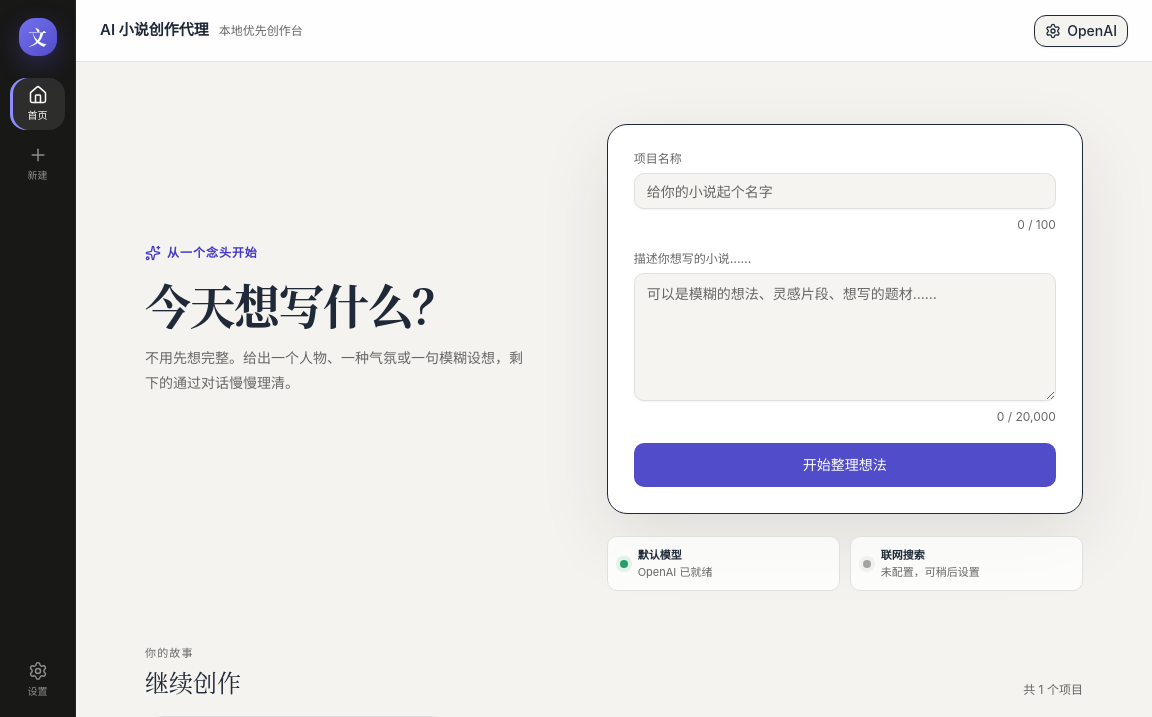
Scenario: App：旅程探针失败可见性（B8 复查随行） › 探针读取失败时给出可见提示，且不泄露原始错误细节
Click the button with aria-label "新建项目" at (38, 164), box 10,138 -> 65,190
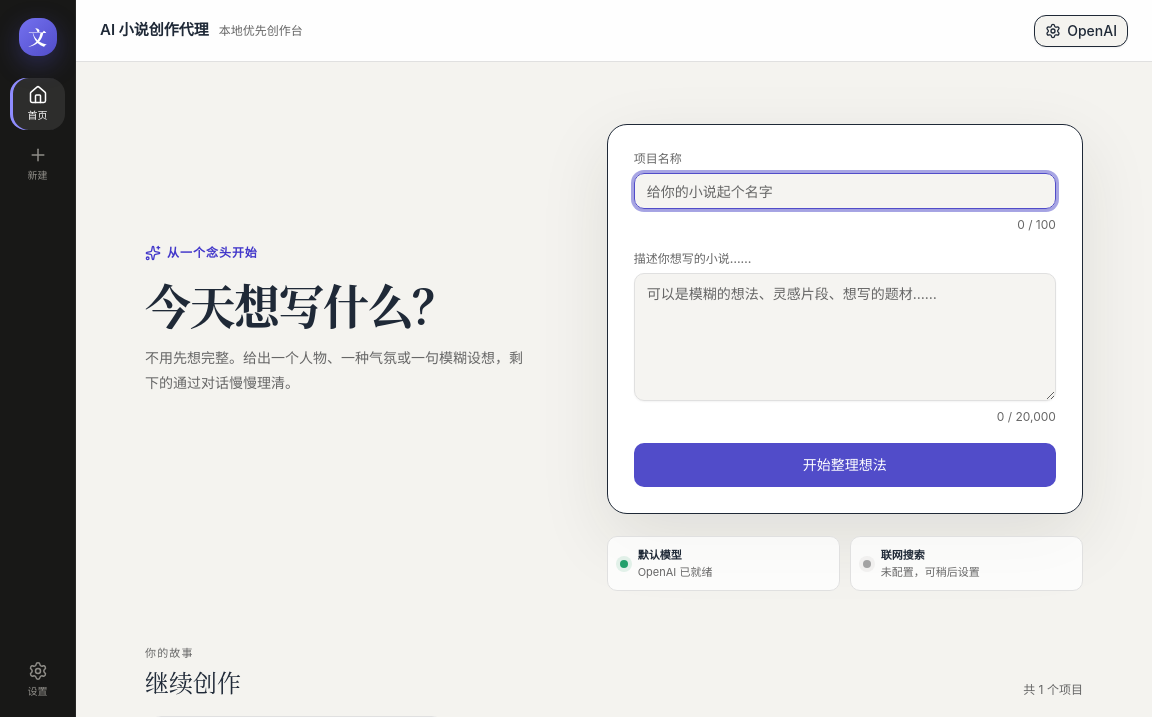
Type "测试项目" into the field labelled "项目名称" at (845, 191), box 634,173 -> 1056,209
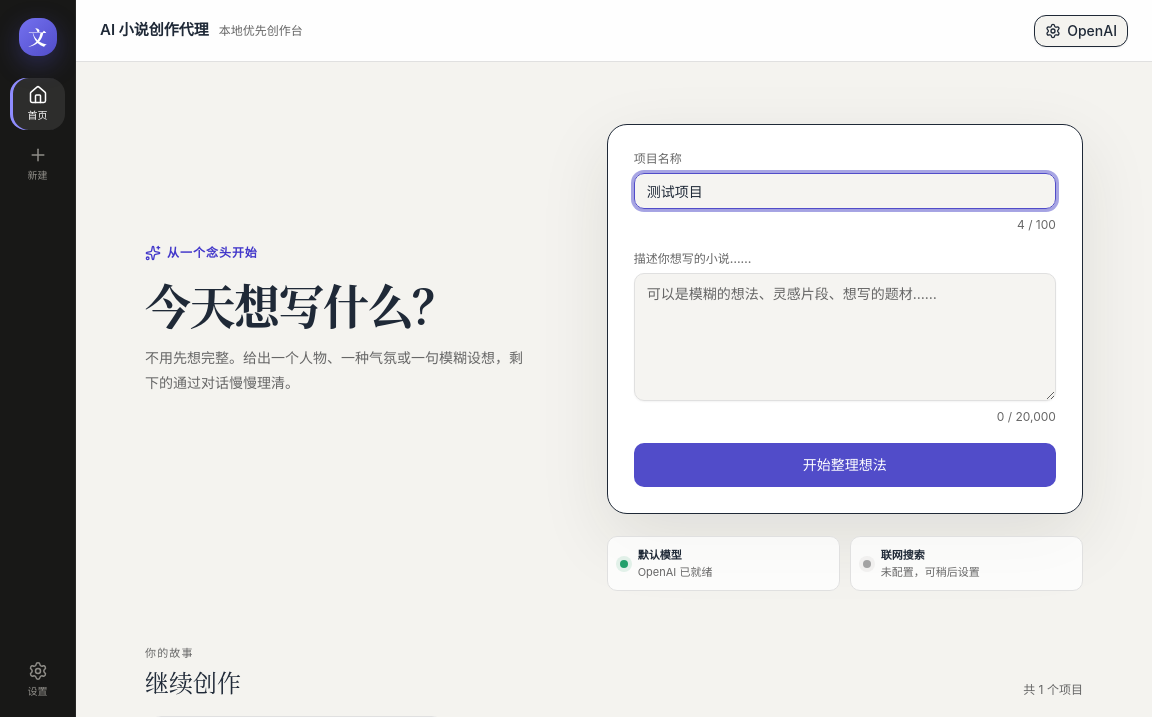
Type "测试想法" into the text box labelled "描述你想写的小说……" at (845, 337), box 634,273 -> 1056,401
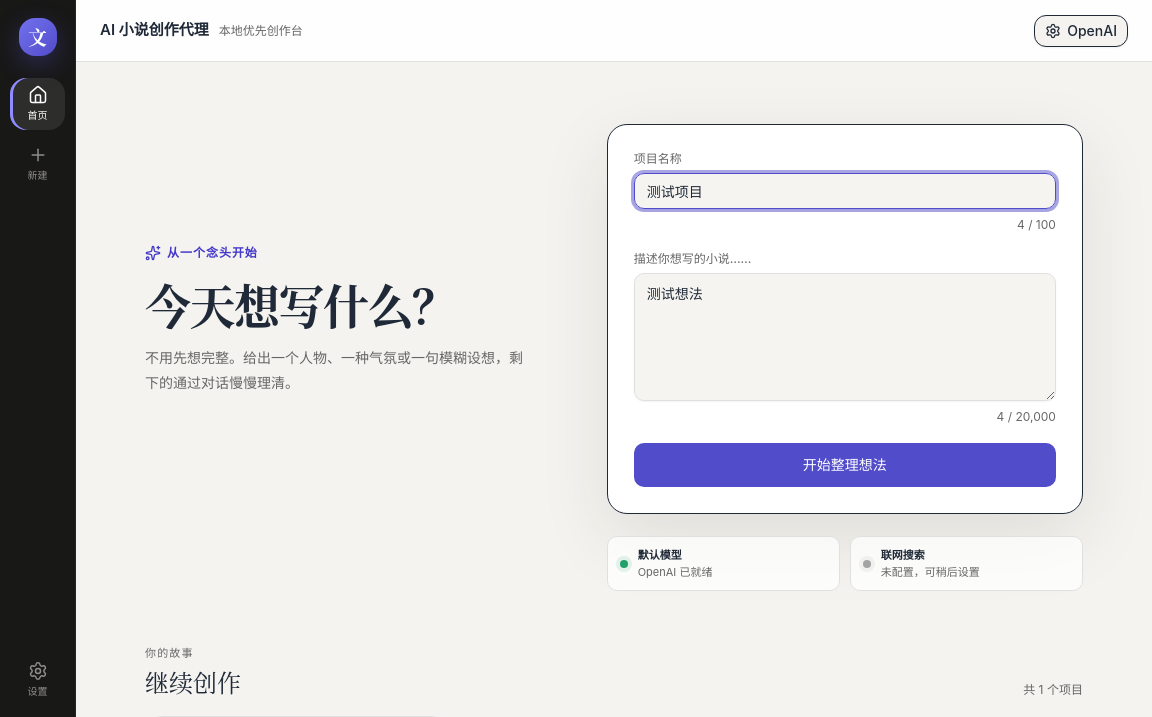
Click the button "开始整理想法" at (845, 465), box 634,443 -> 1056,487
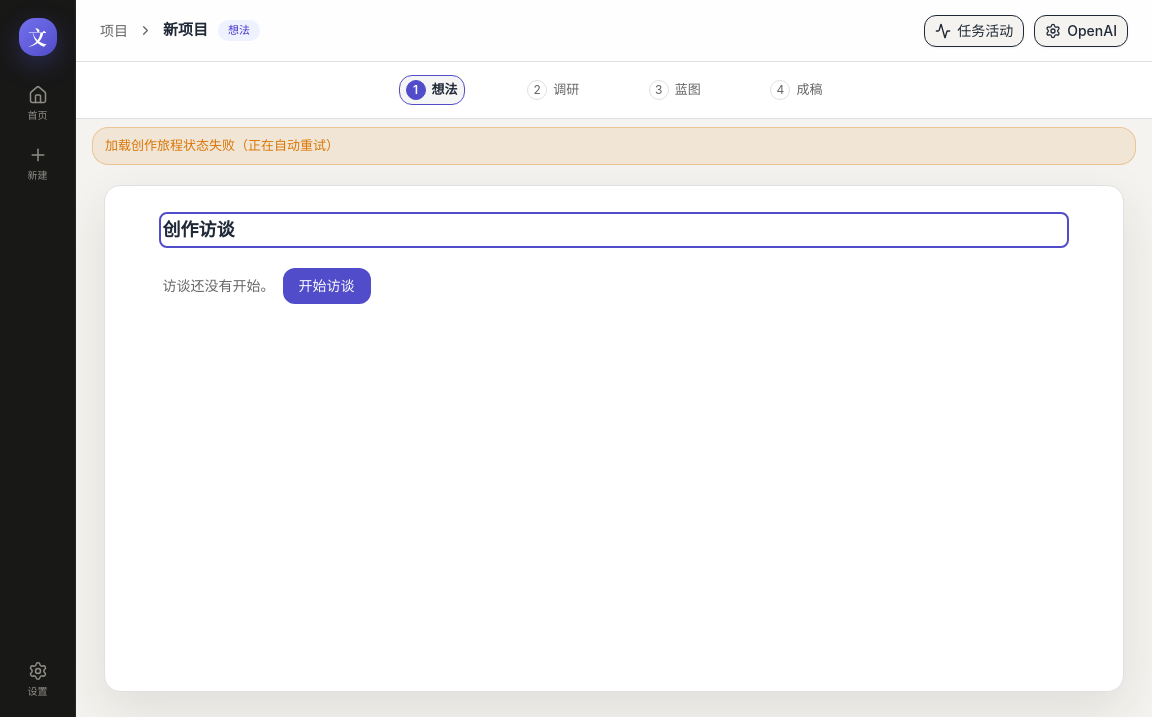
Expected: the text "加载创作旅程状态失败（正在自动重试）" is shown, 92,127 -> 1136,164
